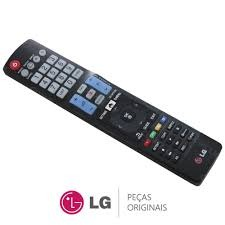remote control: (0, 34, 225, 191)
